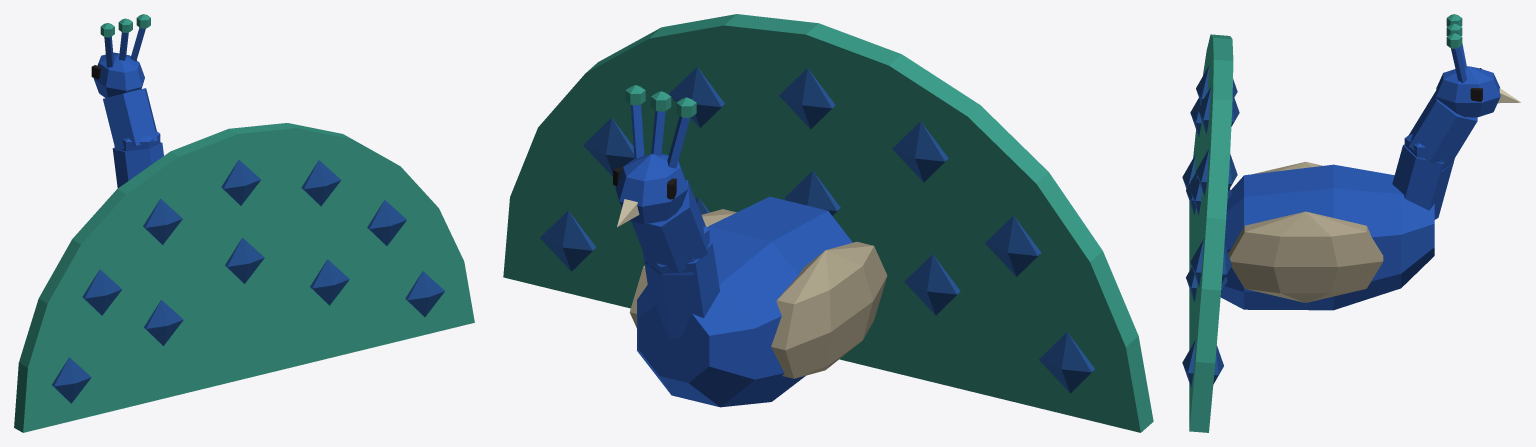
File: animal_peacock.obj
3 views of the same model, side by side, from view 1: azimuth 30°, elevation 25°; view 2: azimuth 150°, elevation 25°; view 3: azimuth 270°, elevation 25° (orthographic). The views are drawn at different scales.
Visible parts, largest first — view 1: animal_peacock; view 2: animal_peacock; view 3: animal_peacock.
Part boxes in pixels (bbox=[...]): animal_peacock: bbox=[14, 14, 474, 432]; animal_peacock: bbox=[503, 14, 1153, 432]; animal_peacock: bbox=[1182, 14, 1520, 432].
Bounding box in the file's own units: 1 × 0.5725 × 0.6051.
